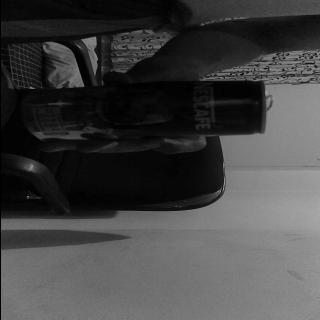alumunium_can: (18, 80, 274, 142)
